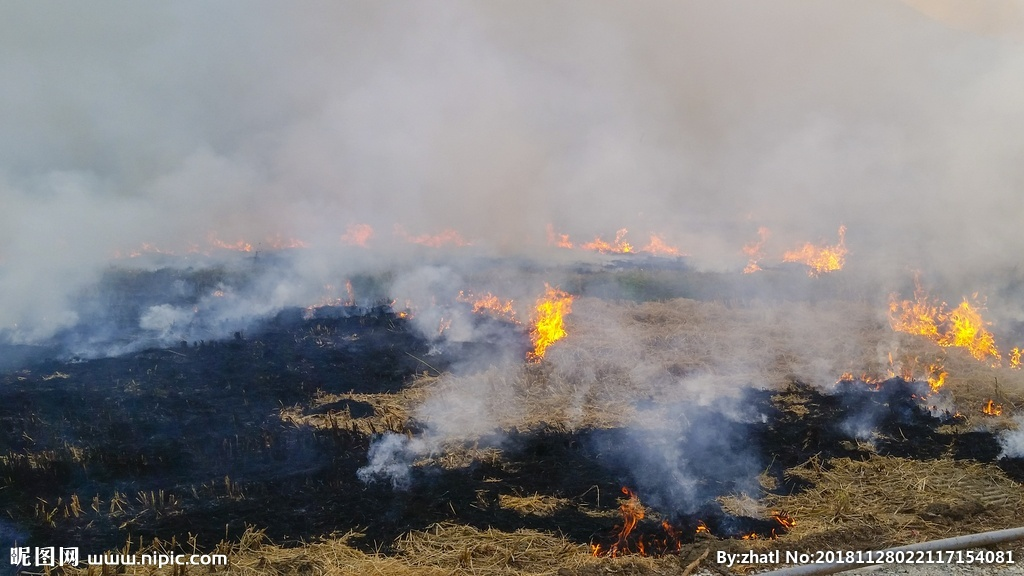fire: (518, 217, 879, 273), (863, 278, 1021, 376), (584, 494, 801, 551), (457, 279, 577, 362), (310, 277, 358, 309)
